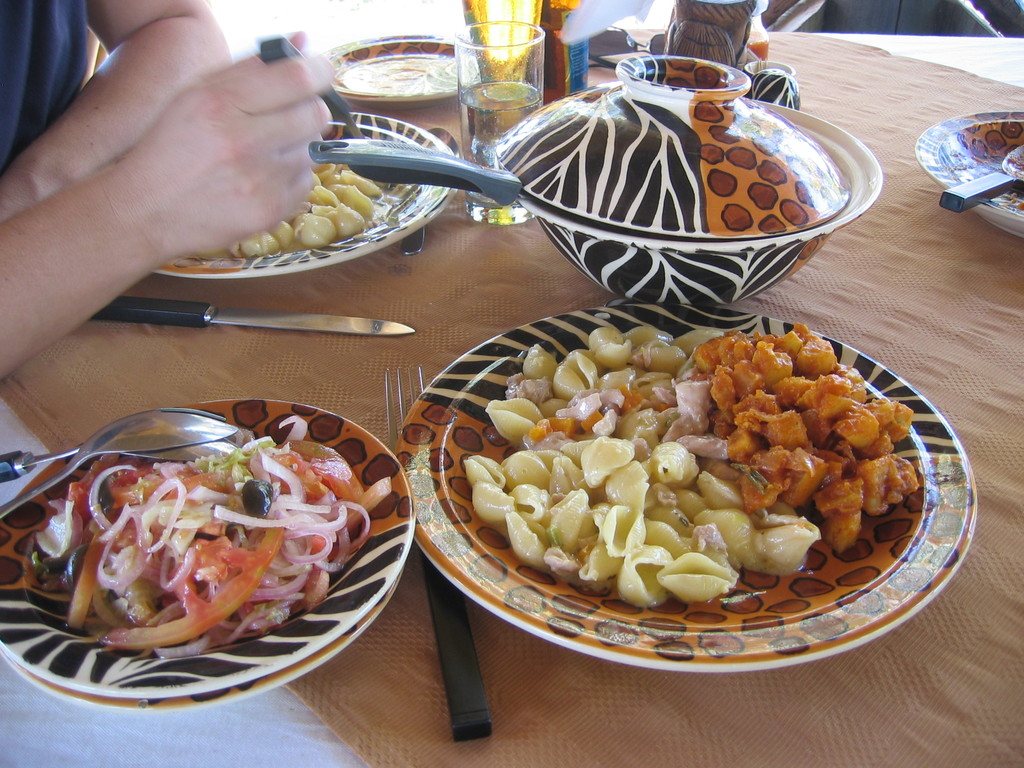pasta: (435, 312, 909, 616)
